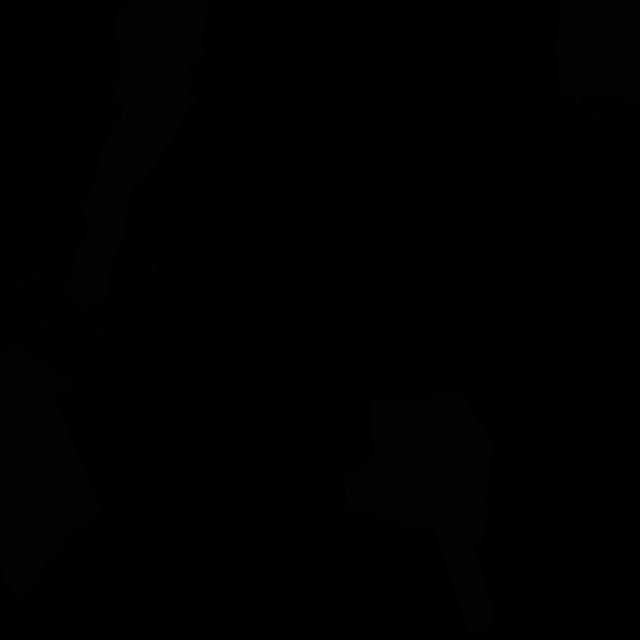cardboard: (62, 0, 208, 311), (344, 395, 492, 635), (0, 343, 100, 604), (556, 0, 640, 102)
rigid_plastic: (0, 235, 164, 342), (568, 95, 640, 180)
